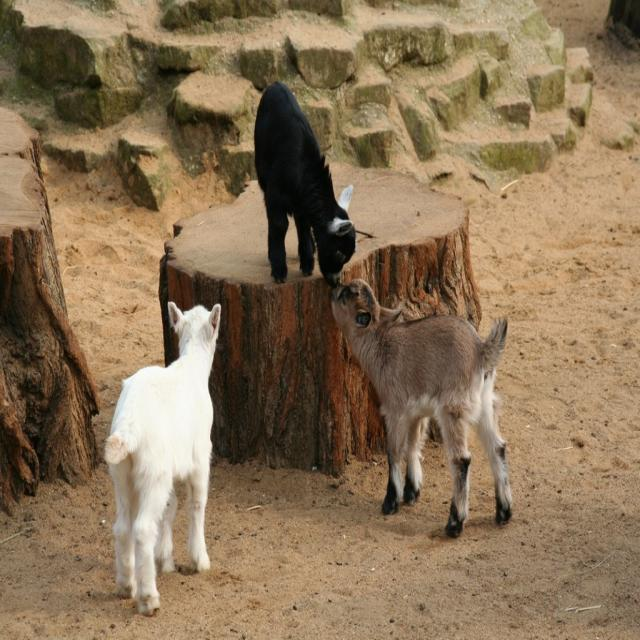Goat: (330, 280, 516, 535), (102, 302, 222, 616), (254, 79, 356, 280)
